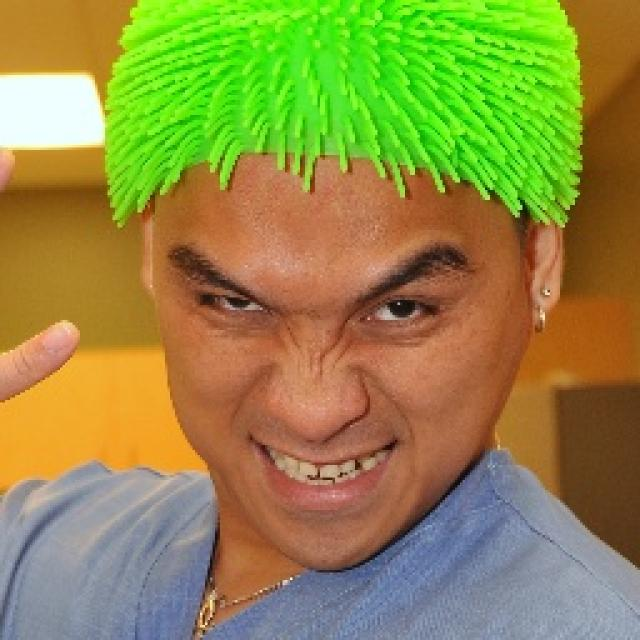earlobe: (531, 224, 564, 327), (138, 203, 155, 299)
